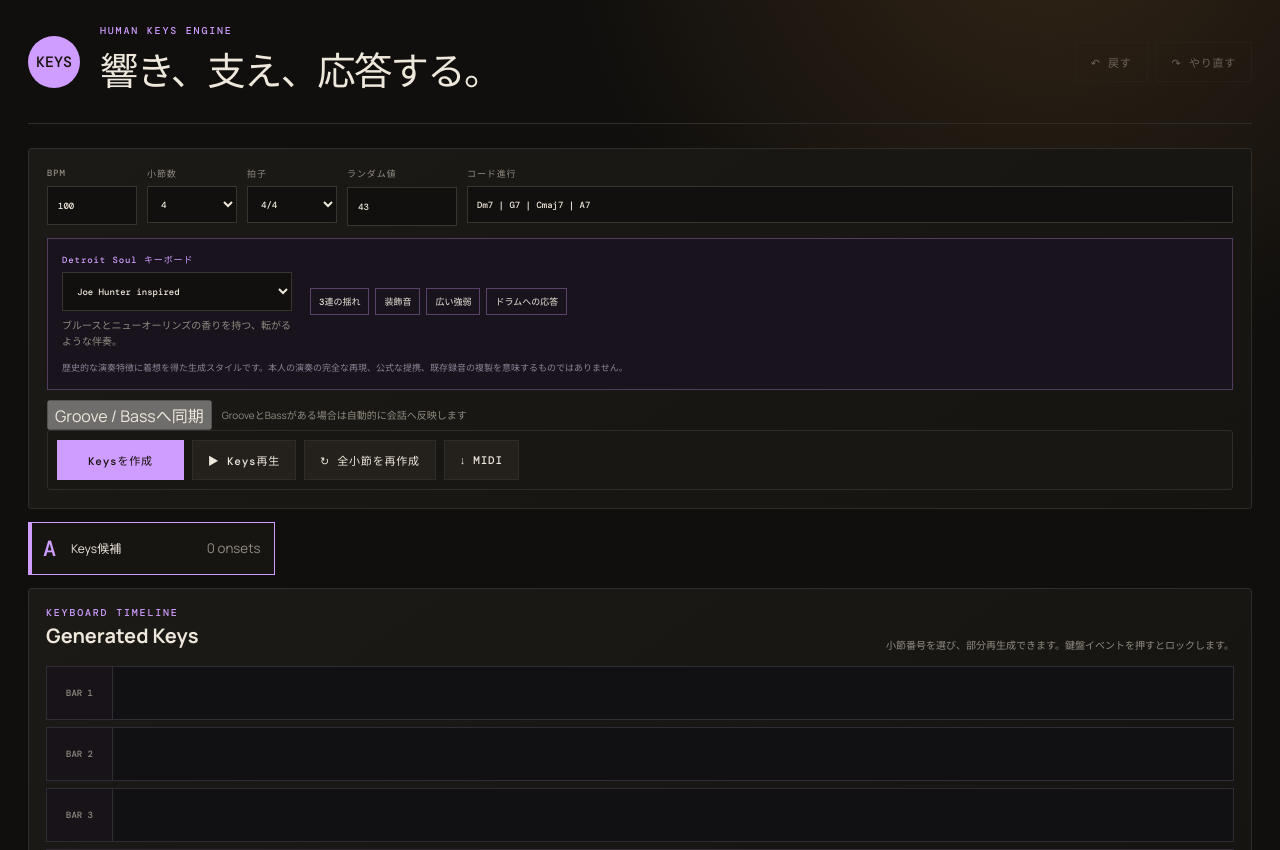
Scenario: reports a MIDI export failure without losing the current pattern
Expected: the heading "Generated Keys" is shown, [46,622,198,648]
Click the button "↓ MIDI": [481, 460] box [444,440,519,480]
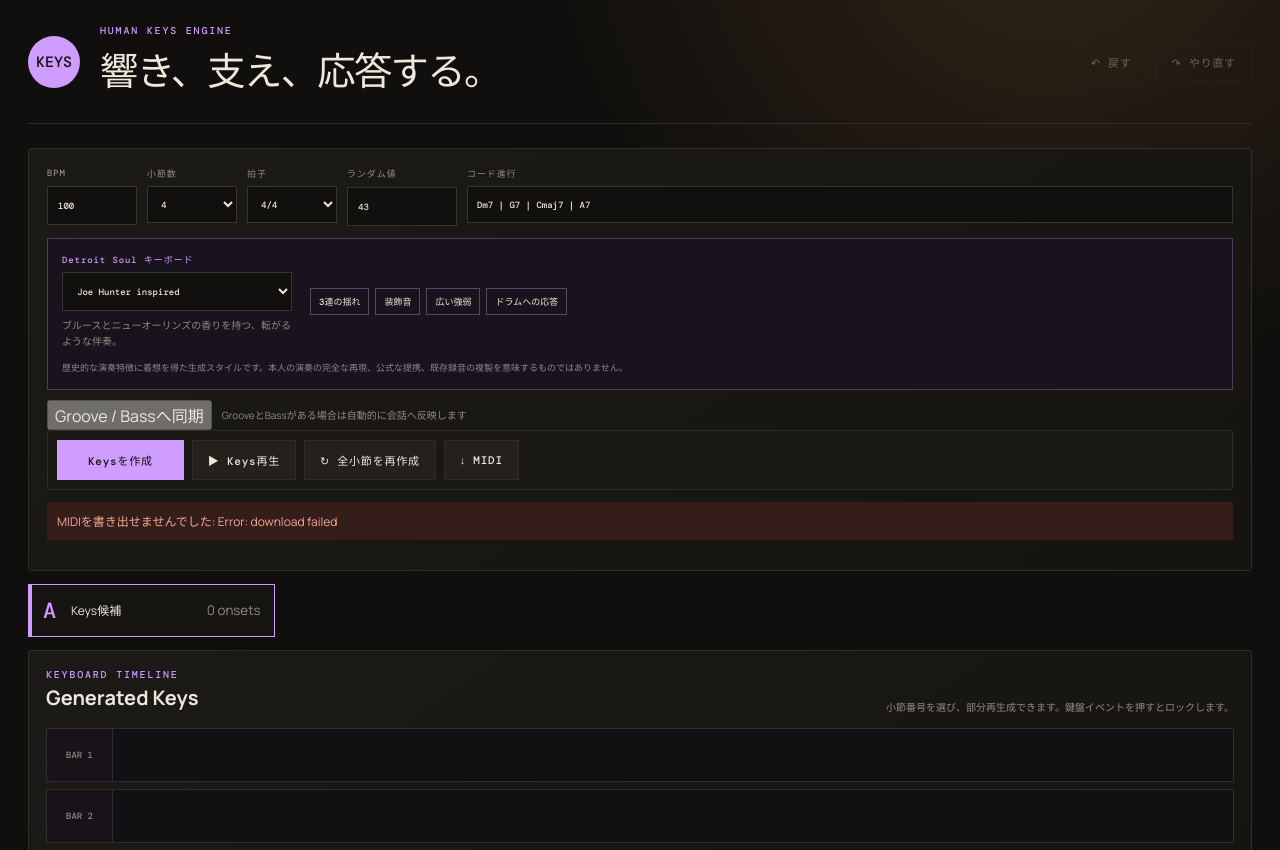
Expected: the heading "Generated Keys" is shown, [46,684,198,710]
Expected: the message shows "MIDIを書き出せませんでした", [57,512,337,530]
